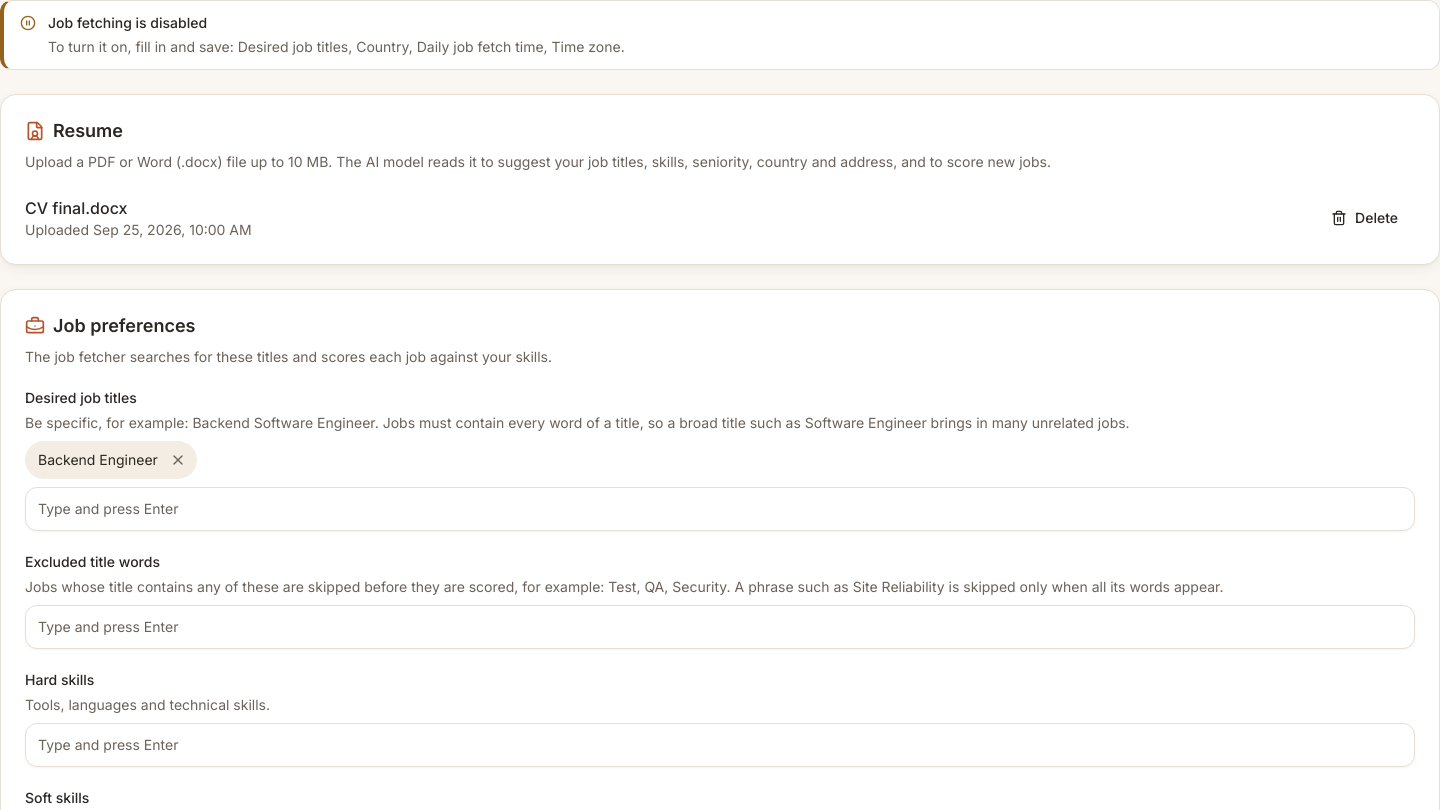
Test: ProfileForm › deletes the resume only after confirmation and keeps titles and skills
Expected: the text "CV final.docx" is shown, [25,198,128,218]
Click the button "Delete". click: (1365, 218)
box: [1314,196,1415,240]
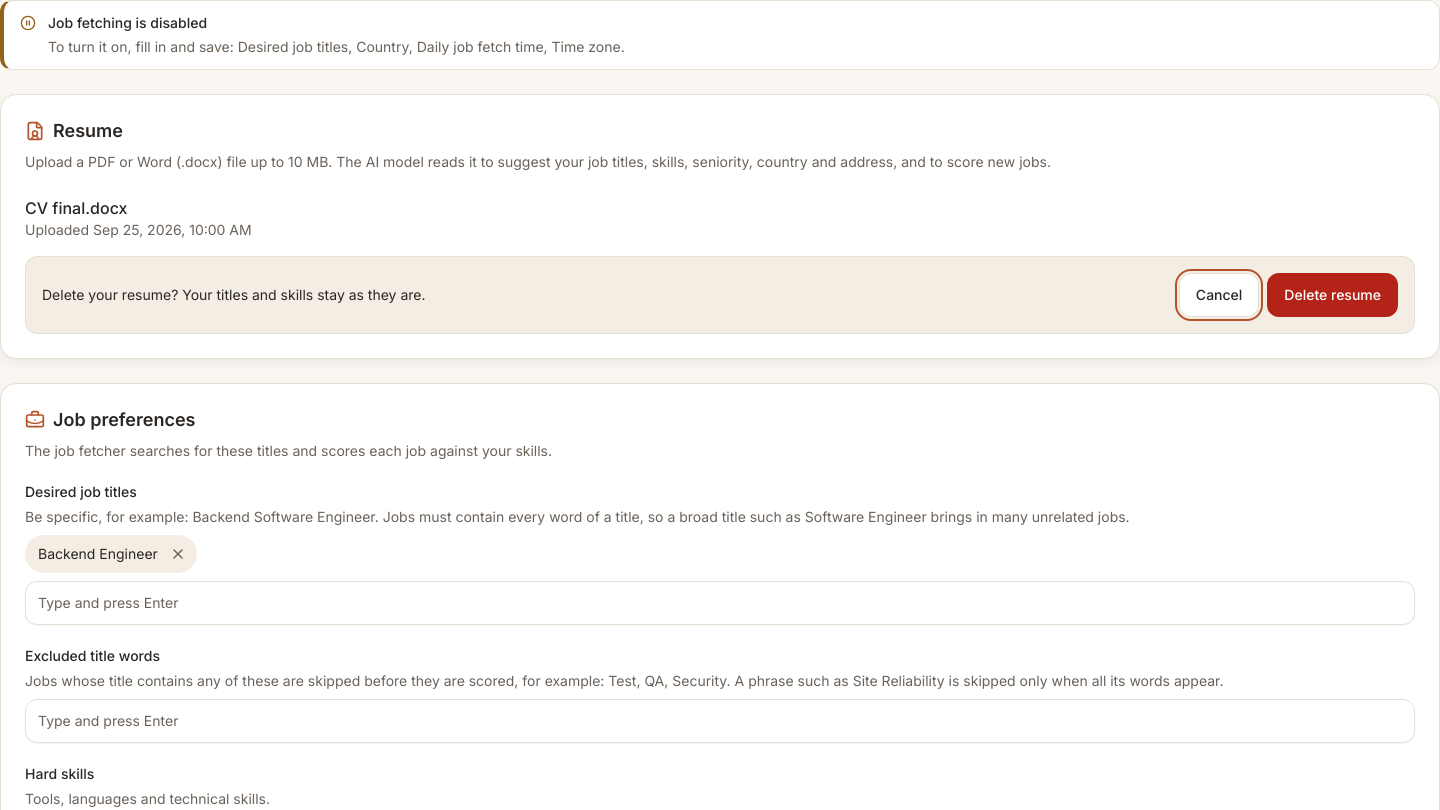
Click the button "Delete resume". click: (1333, 295)
box: [1267,273,1398,317]
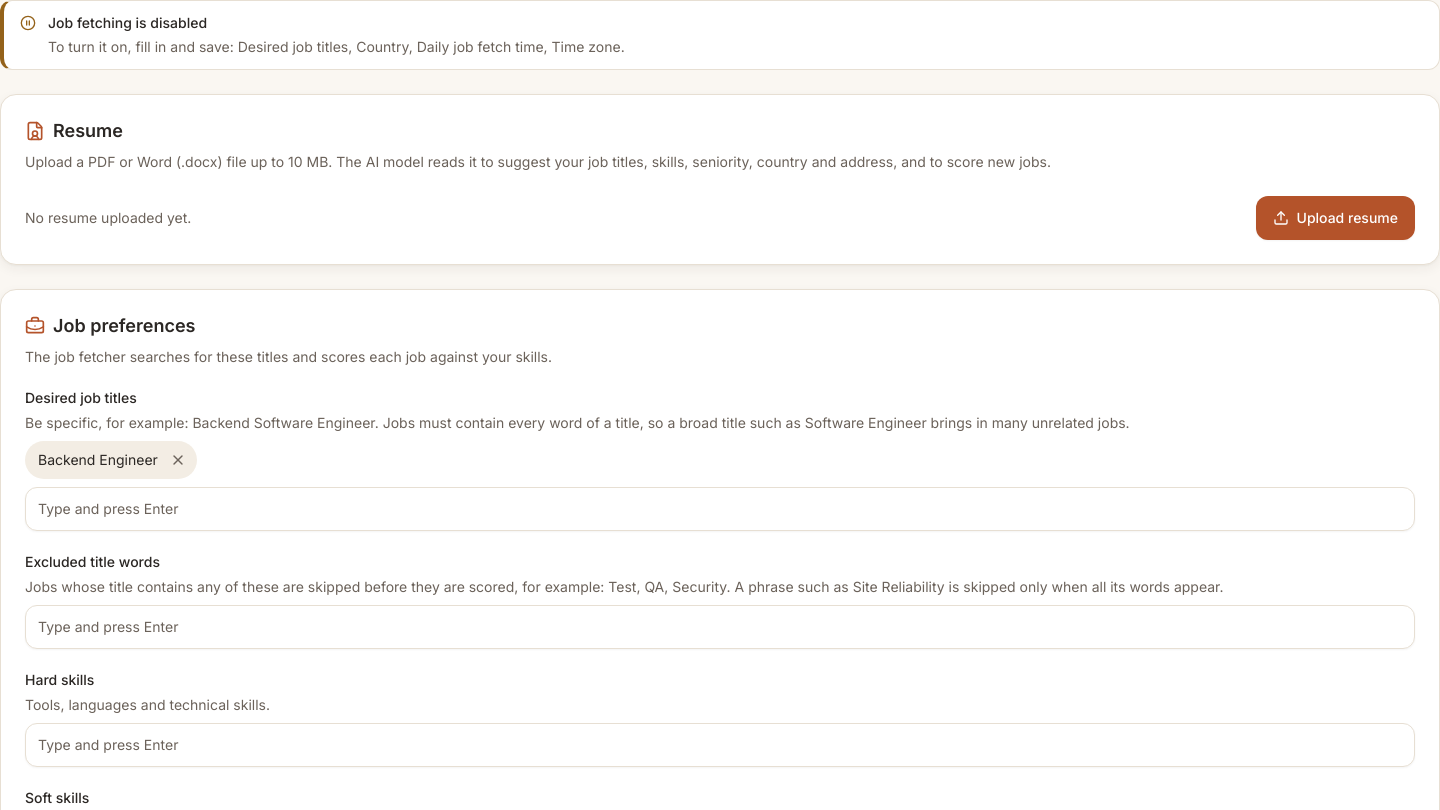
Now the text "No resume uploaded yet." is shown, box [25,208,191,228]
Now the button "Upload resume" is shown, box [1256,196,1415,240]
